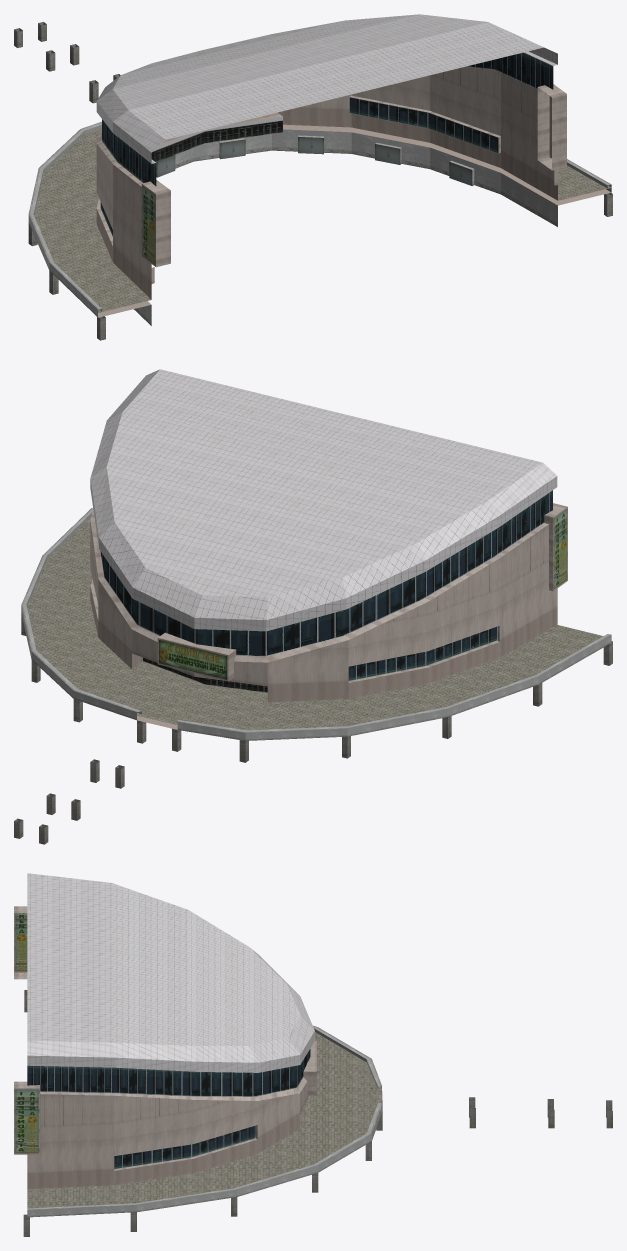
Rendered from stadium_lvs.obj.
3 views of the same model, one above another, from view 1: azimuth 30°, elevation 25°; view 2: azimuth 150°, elevation 25°; view 3: azimuth 270°, elevation 25° (orthographic). The views are drawn at different scales.
Visible parts, largest first — view 1: stadium_lvs; view 2: stadium_lvs; view 3: stadium_lvs.
Part boxes in pixels (bbox=[...]): stadium_lvs: bbox=[14, 14, 612, 340]; stadium_lvs: bbox=[14, 369, 612, 844]; stadium_lvs: bbox=[14, 873, 612, 1236].
Size of the model in its own units: 137 by 46.61 by 152.
Materials: 11 (11 with a texture image).
